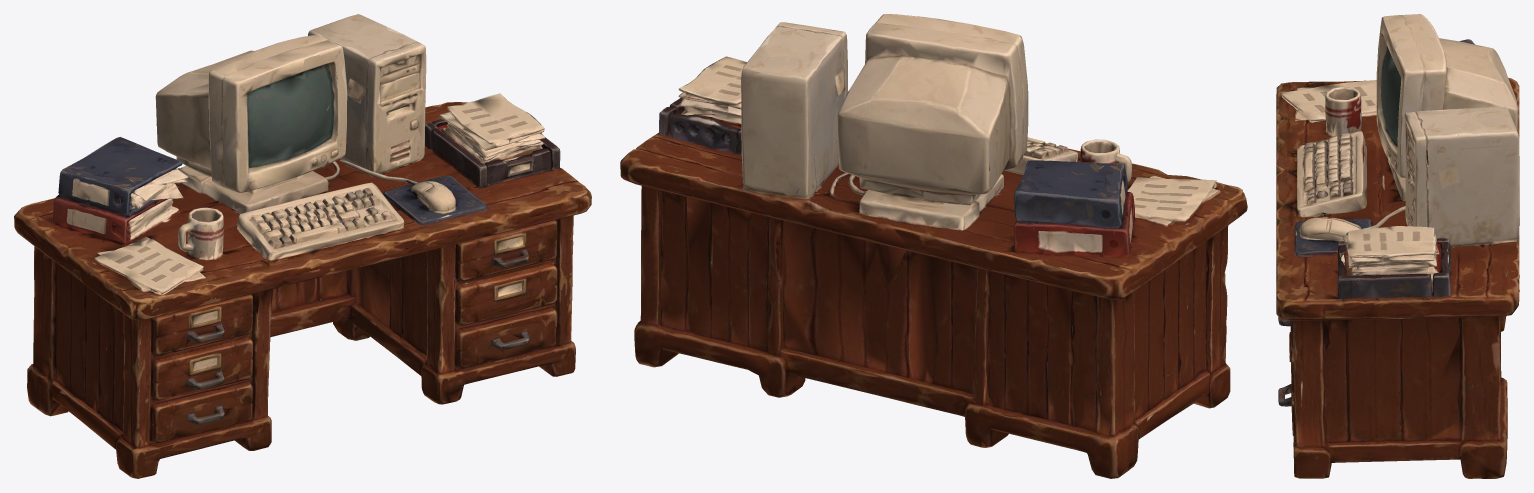
File: d_office_desk.glb
3 views of the same model, side by side, from view 1: azimuth 30°, elevation 25°; view 2: azimuth 150°, elevation 25°; view 3: azimuth 270°, elevation 25° (orthographic). The views are drawn at different scales.
Size of the model in its own units: 1.9 by 1.3 by 0.8837.
1 material, 1 textured.
